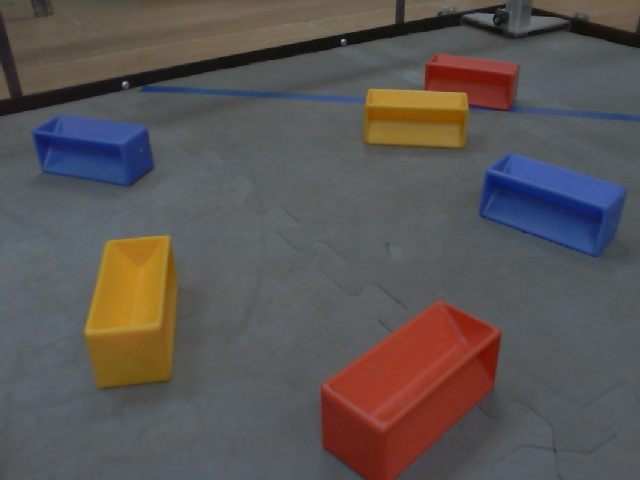BlueSample: (474, 148, 629, 260), (29, 111, 159, 188)
RedSample: (317, 290, 502, 479), (419, 45, 519, 114)
YellowSample: (83, 229, 183, 391), (361, 84, 470, 153)
